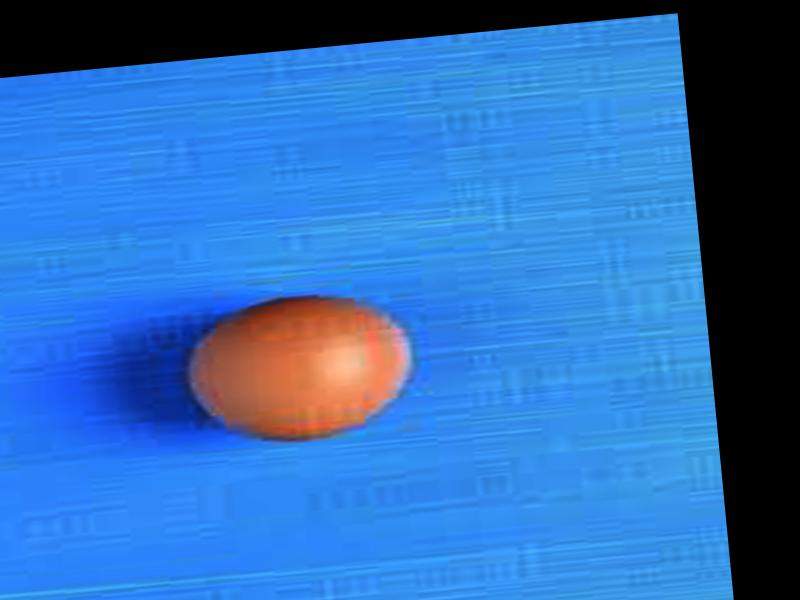Eggs: (174, 287, 422, 450)
